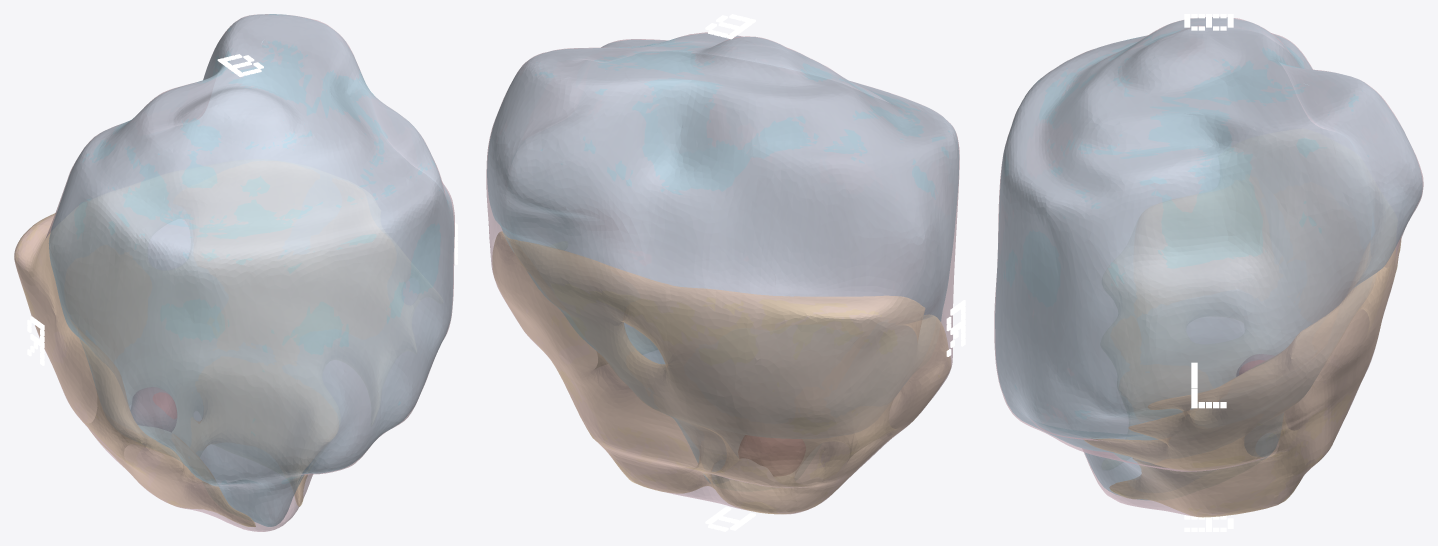
3 renders of one model, left to right at view 1: azimuth 30°, elevation 25°; view 2: azimuth 150°, elevation 25°; view 3: azimuth 270°, elevation 25°, orthographic. The views are drawn at different scales.
Parts seen in each view (by area): view 1: prostate_gland, transition_zone, peripheral_zone, lesion_01; view 2: prostate_gland, transition_zone, peripheral_zone, lesion_01, pv_ar_marker_B, pv_ar_marker_R; view 3: prostate_gland, transition_zone, peripheral_zone, pv_ar_marker_B, pv_ar_marker_L.
Part boxes in pixels (x1,y1,x2,y2): prostate_gland: (14,14,454,531); transition_zone: (49,14,453,526); peripheral_zone: (14,213,307,526); lesion_01: (131,387,176,431); prostate_gland: (486,32,959,514); transition_zone: (487,33,958,481); peripheral_zone: (492,231,950,514); lesion_01: (738,435,805,475); pv_ar_marker_B: (705,14,755,39); pv_ar_marker_R: (946,300,965,356); prostate_gland: (994,17,1423,516); transition_zone: (995,17,1422,499); peripheral_zone: (1084,199,1401,517); pv_ar_marker_B: (1184,14,1233,30); pv_ar_marker_L: (1191,362,1226,408).
Size of the model in its own units: 0.0697 by 0.0724 by 0.056.
